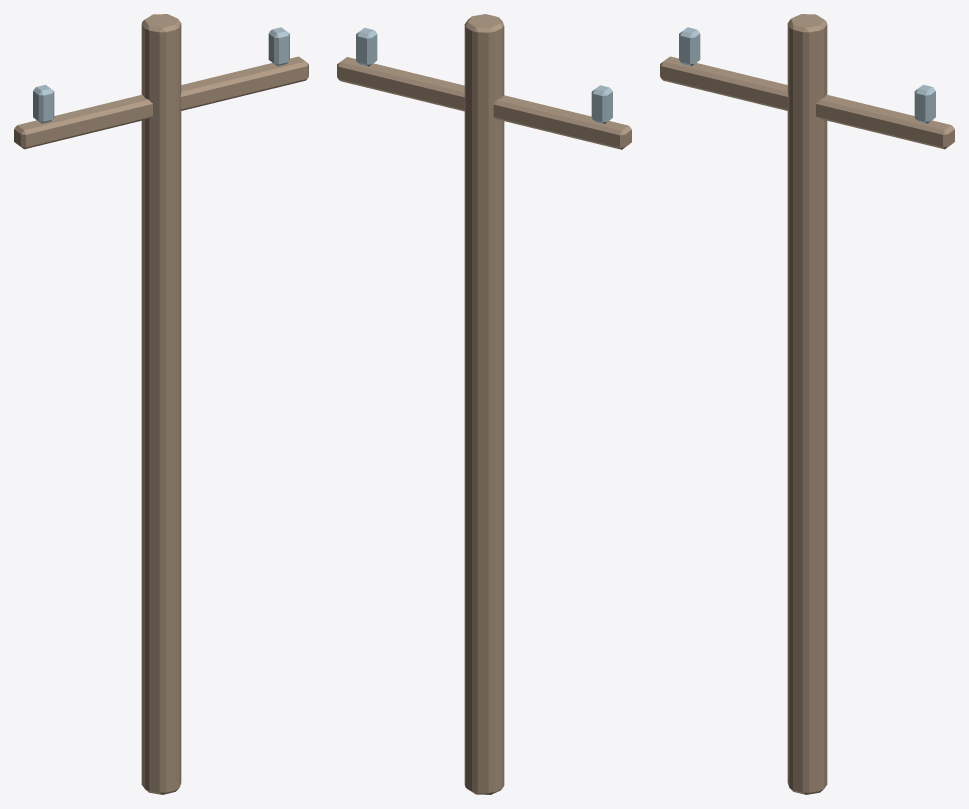
Rendered from telephone_pole.glb.
3 views of the same model, side by side, from view 1: azimuth 30°, elevation 25°; view 2: azimuth 150°, elevation 25°; view 3: azimuth 330°, elevation 25° (orthographic).
Visible parts, largest first — view 1: pole, arm, insul, insul.002; view 2: pole, arm, insul, insul.002; view 3: pole, arm, insul.002, insul.
Boxes of the visible parts, x1=… form: pole: x1=141, y1=14, x2=181, y2=794; arm: x1=14, y1=56, x2=308, y2=149; insul: x1=33, y1=84, x2=54, y2=123; insul.002: x1=268, y1=27, x2=289, y2=66; pole: x1=464, y1=14, x2=504, y2=794; arm: x1=337, y1=57, x2=631, y2=149; insul: x1=591, y1=85, x2=612, y2=124; insul.002: x1=356, y1=28, x2=377, y2=66; pole: x1=787, y1=14, x2=827, y2=794; arm: x1=660, y1=56, x2=954, y2=149; insul.002: x1=914, y1=84, x2=935, y2=123; insul: x1=679, y1=27, x2=700, y2=66.
Size of the model in its own units: 1.1 by 2.8 by 0.1279.
